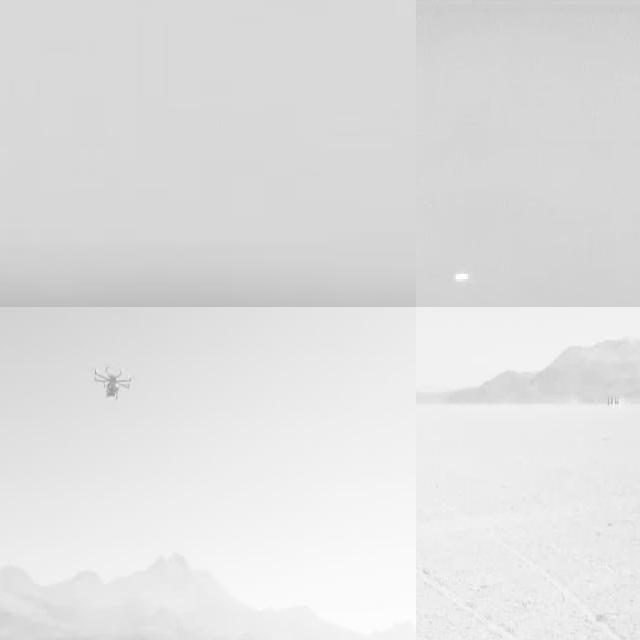0: (381, 0, 409, 11), (410, 48, 416, 75)
1: (446, 264, 482, 294)
drone: (89, 354, 132, 404)
